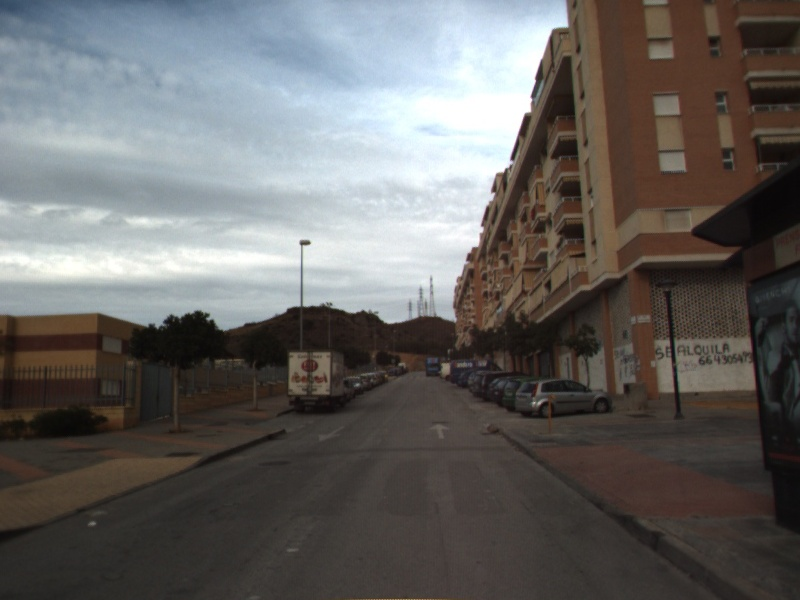STRAIGHT: (427, 421, 452, 441)
